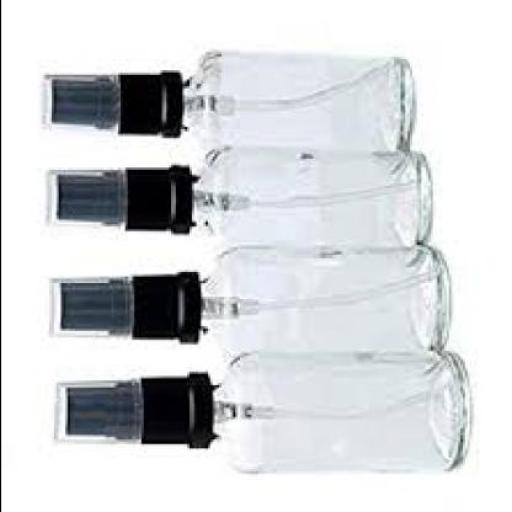glass: (209, 353, 464, 474), (194, 251, 446, 358), (188, 156, 427, 249), (180, 61, 408, 154)
plastic: (49, 374, 206, 454), (48, 274, 193, 348), (42, 167, 186, 234), (39, 74, 179, 141)
